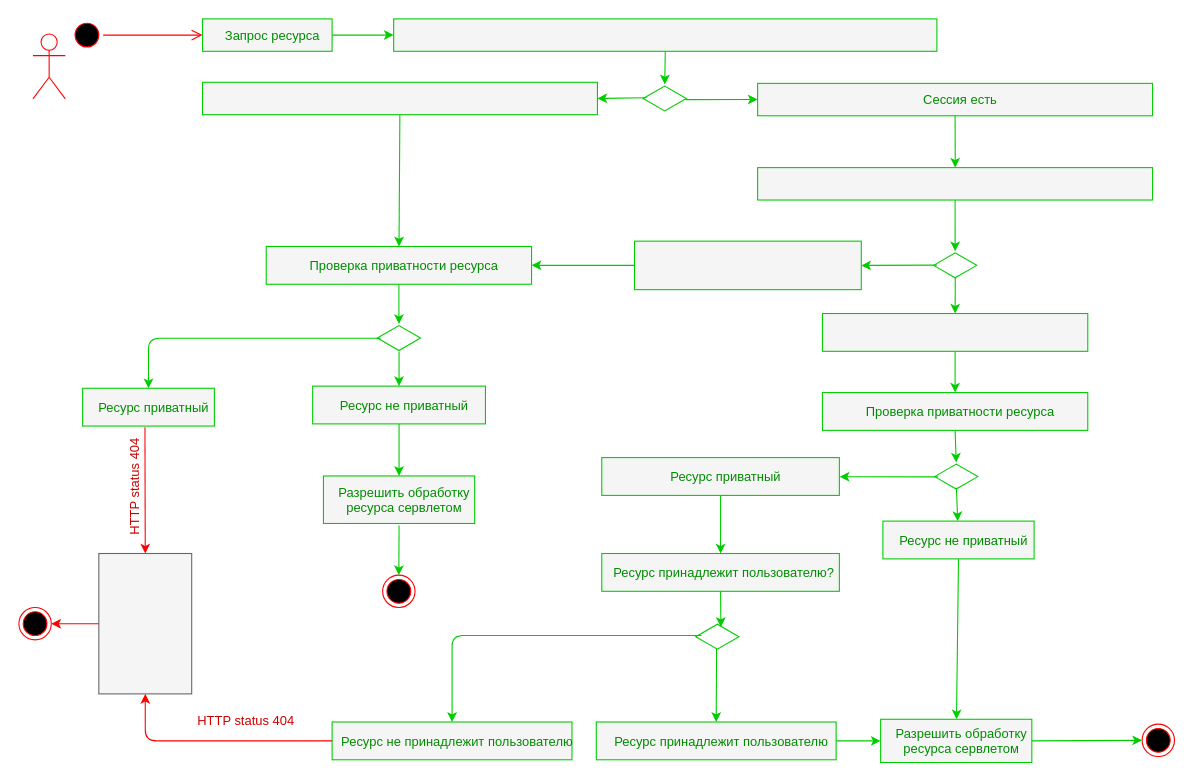
This 1193x782 diagram has some shape labels left out. The shapes that lost their labels are listed below. From the top down, each one's centre as x and y in pixels, then its label:
At pixel 665 34: "Проверка сессии".
At pixel 48 66: "User".
At pixel 399 98: "Сессии нет".
At pixel 955 183: "Проверка аутентификации пользователя".
At pixel 747 265: "Пользователь вышел из эккаунта (не аутентифицирован)".
At pixel 954 331: "Пользователь аутентифицирован".
At pixel 145 623: "обработка браузером статуса 404".
